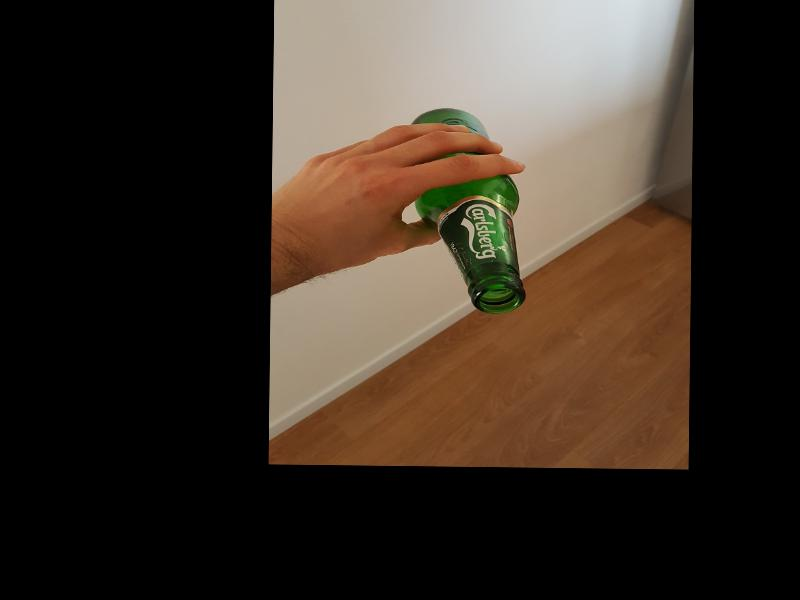Beer: (413, 108, 526, 314)
